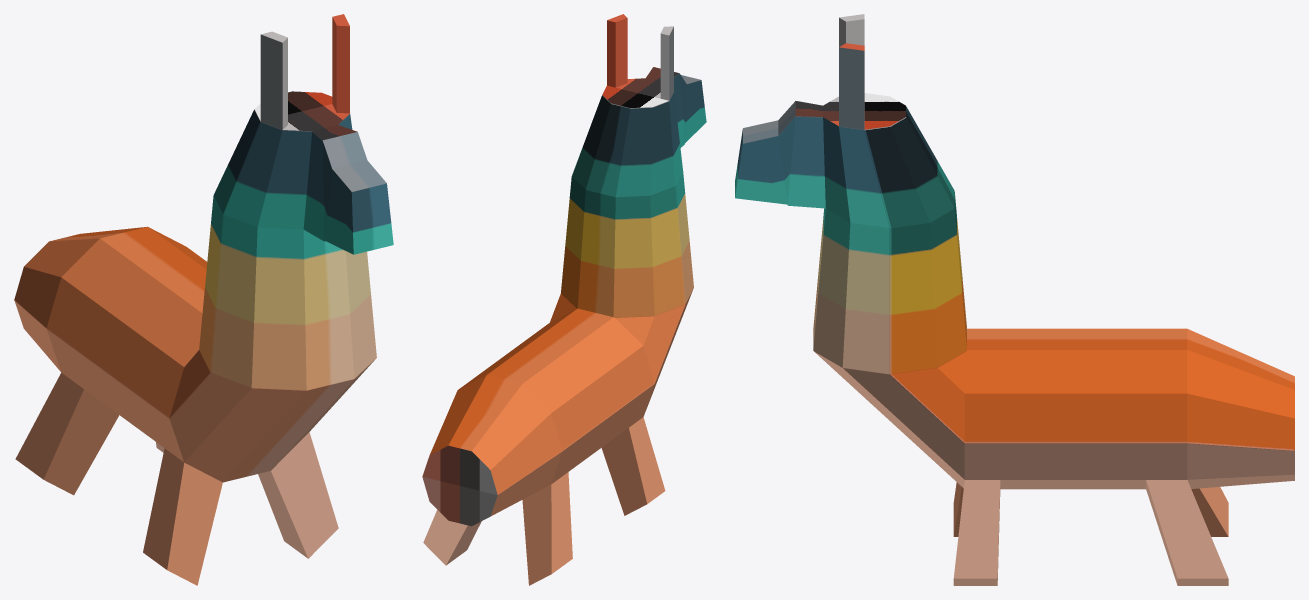
Rendered from llama 1.fbx.
The picture shows the model from 3 angles, left to right: view 1: azimuth 30°, elevation 25°; view 2: azimuth 150°, elevation 25°; view 3: azimuth 270°, elevation 25°; orthographic projection. The views are drawn at different scales.
Visible parts, largest first — view 1: Cylinder.004; view 2: Cylinder.004; view 3: Cylinder.004.
Boxes of the visible parts, <box> form: Cylinder.004: <box>14,14,393,585</box>; Cylinder.004: <box>422,14,706,585</box>; Cylinder.004: <box>735,14,1294,585</box>.
Size of the model in its own units: 28.38 by 92.33 by 88.54.
